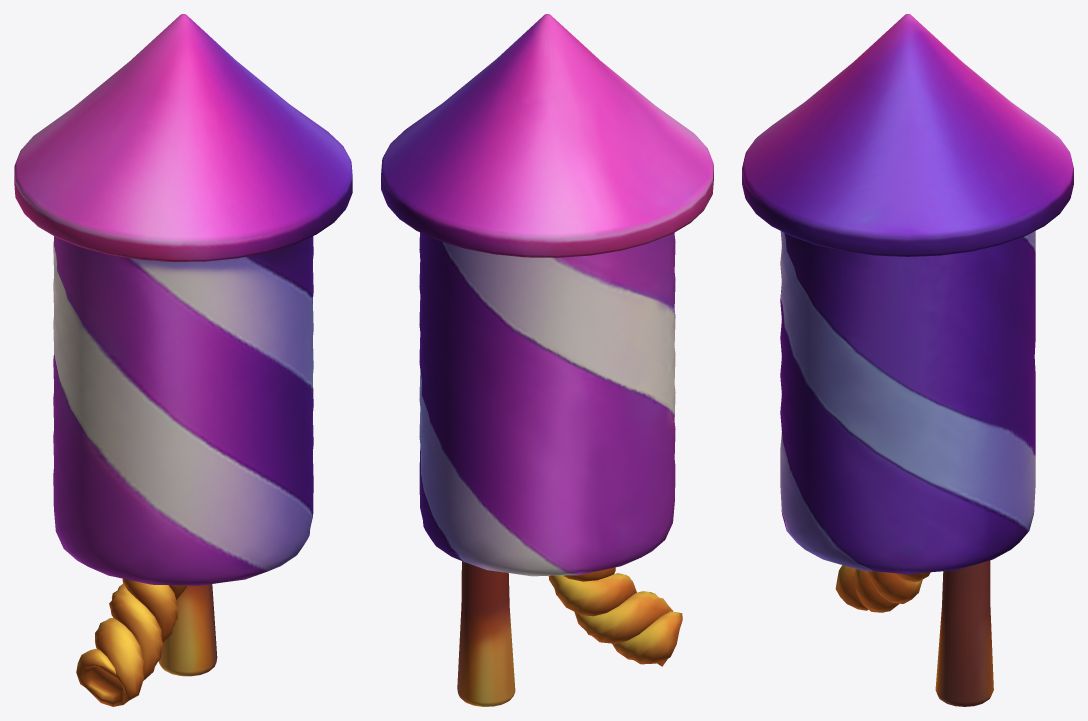
Rendered from Rocket.fbx.
3 renders of one model, left to right at view 1: azimuth 30°, elevation 25°; view 2: azimuth 150°, elevation 25°; view 3: azimuth 270°, elevation 25°, orthographic. The views are drawn at different scales.
Parts seen in each view (by area): view 1: Rocket; view 2: Rocket; view 3: Rocket.
Boxes of the visible parts, <box> form: Rocket: <box>14,14,352,706</box>; Rocket: <box>381,14,713,706</box>; Rocket: <box>742,14,1073,706</box>.
Bounding box in the file's own units: 1 × 2.22 × 1.
